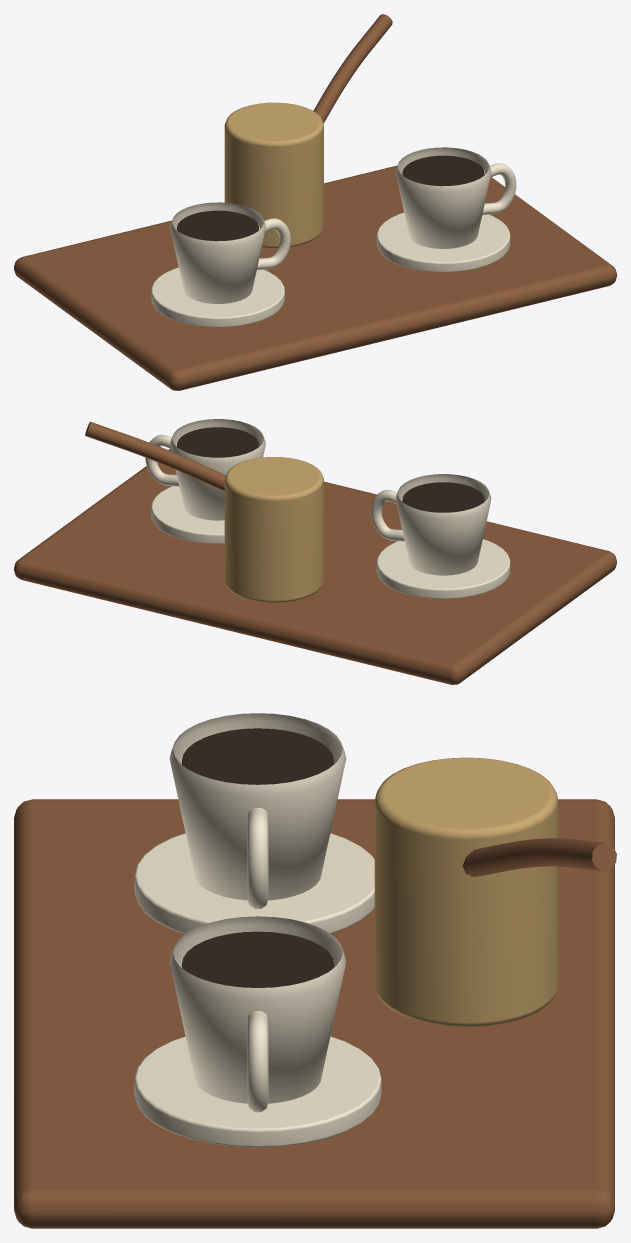
The model's file is CoffeeSet.fbx.
3 views of the same model, one above another, from view 1: azimuth 30°, elevation 25°; view 2: azimuth 150°, elevation 25°; view 3: azimuth 270°, elevation 25° (orthographic). The views are drawn at different scales.
Parts seen in each view (by area): view 1: Surface_KKTC_Wood, Surface_KKTC_Ceramic, Surface_KKTC_Brass, Surface_KKTC_Coffee; view 2: Surface_KKTC_Wood, Surface_KKTC_Ceramic, Surface_KKTC_Brass, Surface_KKTC_Coffee; view 3: Surface_KKTC_Wood, Surface_KKTC_Ceramic, Surface_KKTC_Brass, Surface_KKTC_Coffee.
Boxes of the visible parts, box(x1,y1,x2,y2) form: Surface_KKTC_Wood: box(14, 14, 616, 390); Surface_KKTC_Ceramic: box(151, 147, 516, 327); Surface_KKTC_Brass: box(224, 102, 323, 248); Surface_KKTC_Coffee: box(177, 155, 484, 241); Surface_KKTC_Wood: box(14, 421, 616, 684); Surface_KKTC_Ceramic: box(145, 419, 510, 598); Surface_KKTC_Brass: box(224, 457, 323, 602); Surface_KKTC_Coffee: box(177, 427, 484, 512); Surface_KKTC_Wood: box(14, 799, 616, 1228); Surface_KKTC_Ceramic: box(134, 713, 381, 1147); Surface_KKTC_Brass: box(374, 757, 558, 1026); Surface_KKTC_Coffee: box(182, 728, 333, 987).
Bounding box in the file's own units: 27 × 10.06 × 17.05.
